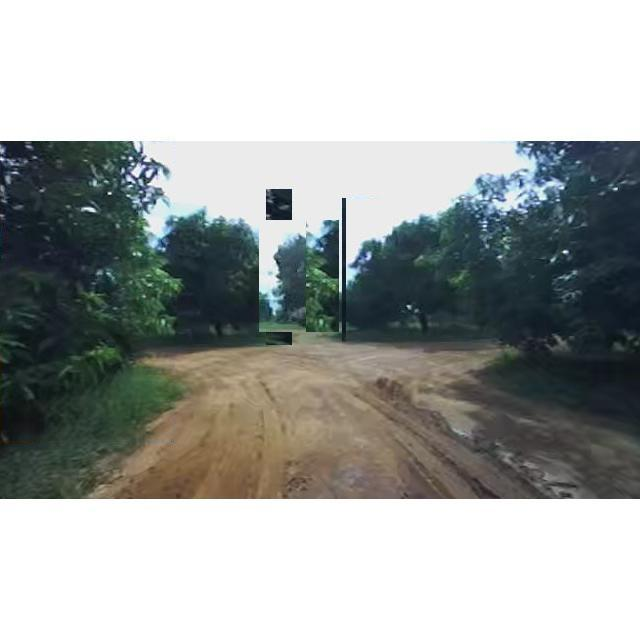direk: (0, 142, 174, 442), (480, 142, 640, 376), (148, 189, 292, 345), (342, 198, 484, 342), (259, 220, 339, 332)
